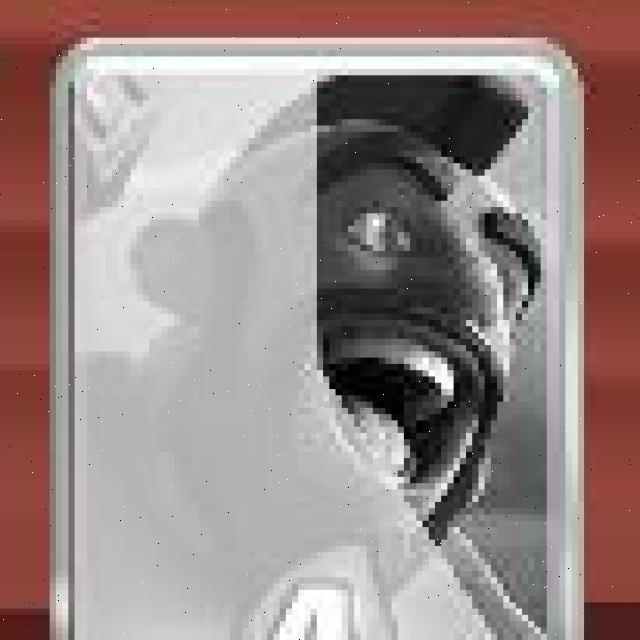Hog_Rider: (51, 40, 586, 640)
